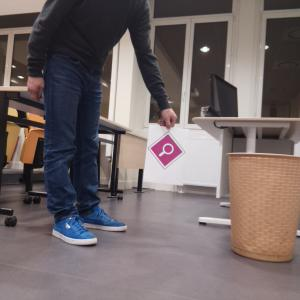medium: (224, 152, 299, 263)
